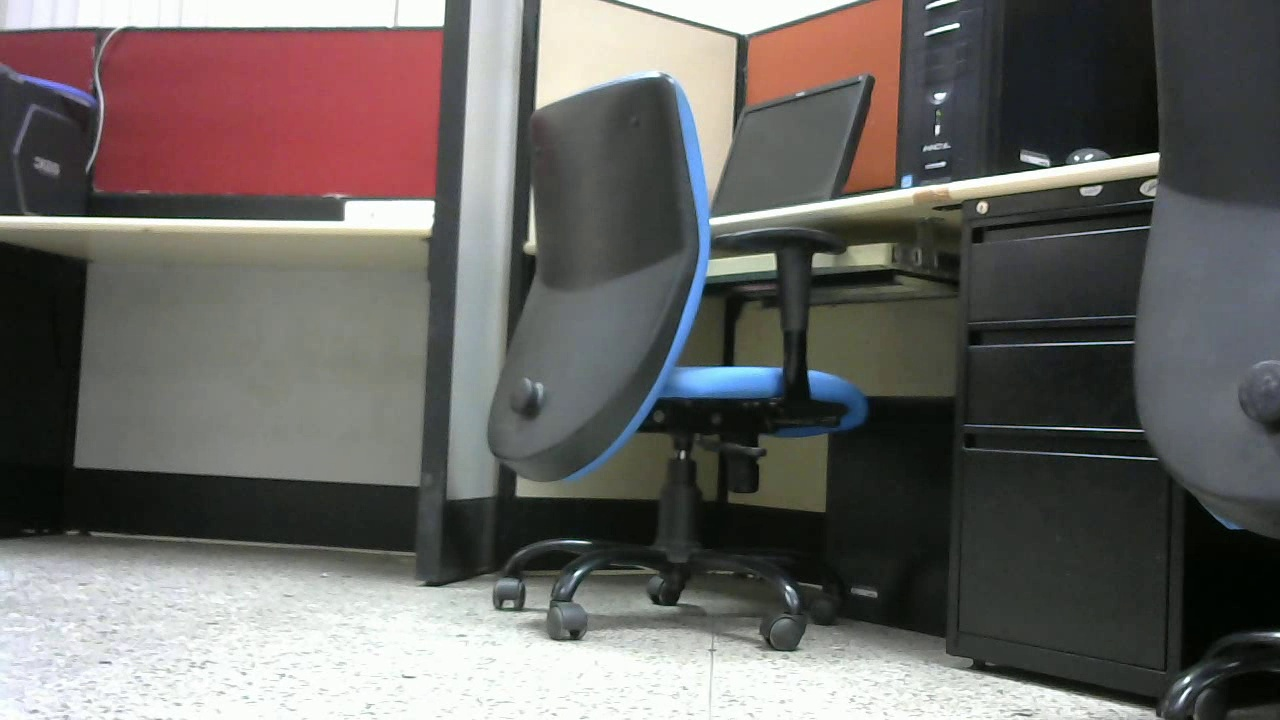chair: (472, 62, 876, 653)
